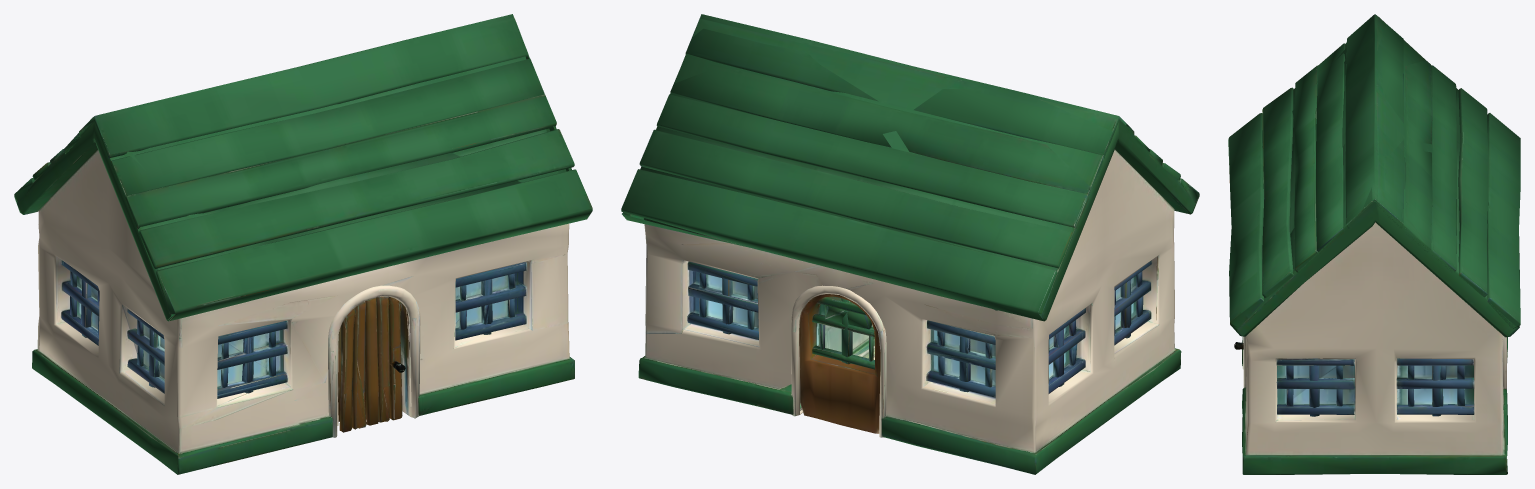
Rendered from simple-house-a.glb.
The picture shows the model from 3 angles, left to right: view 1: azimuth 30°, elevation 25°; view 2: azimuth 150°, elevation 25°; view 3: azimuth 270°, elevation 25°; orthographic projection. The views are drawn at different scales.
Size of the model in its own units: 1 by 0.7089 by 0.6679.
1 material, 1 textured.
